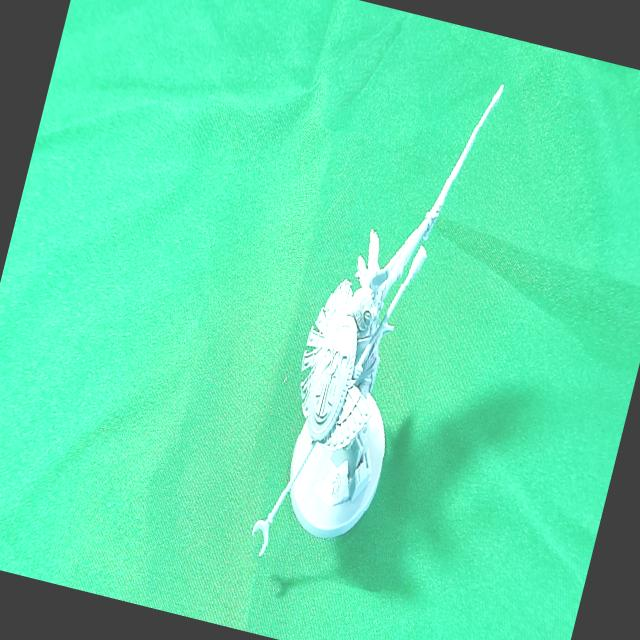isis: (227, 17, 516, 594)
